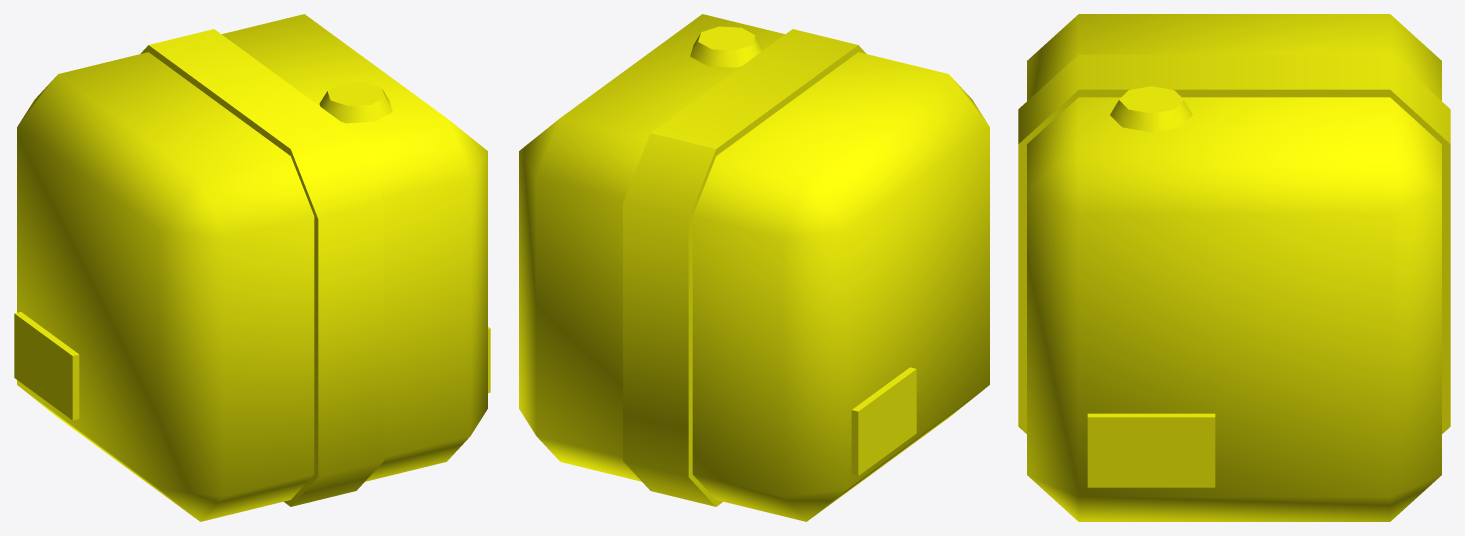
Rendered from kaykit-cargo-b-packed.glb.
The picture shows the model from 3 angles, left to right: view 1: azimuth 30°, elevation 25°; view 2: azimuth 150°, elevation 25°; view 3: azimuth 270°, elevation 25°; orthographic projection. The views are drawn at different scales.
Visible parts, largest first — view 1: cargo_B_packed; view 2: cargo_B_packed; view 3: cargo_B_packed.
Part boxes in pixels (x1,y1,x2,y2): cargo_B_packed: [14, 14, 490, 521]; cargo_B_packed: [519, 14, 989, 521]; cargo_B_packed: [1018, 14, 1450, 521].
Size of the model in its own units: 0.5205 by 0.5303 by 0.5205.
